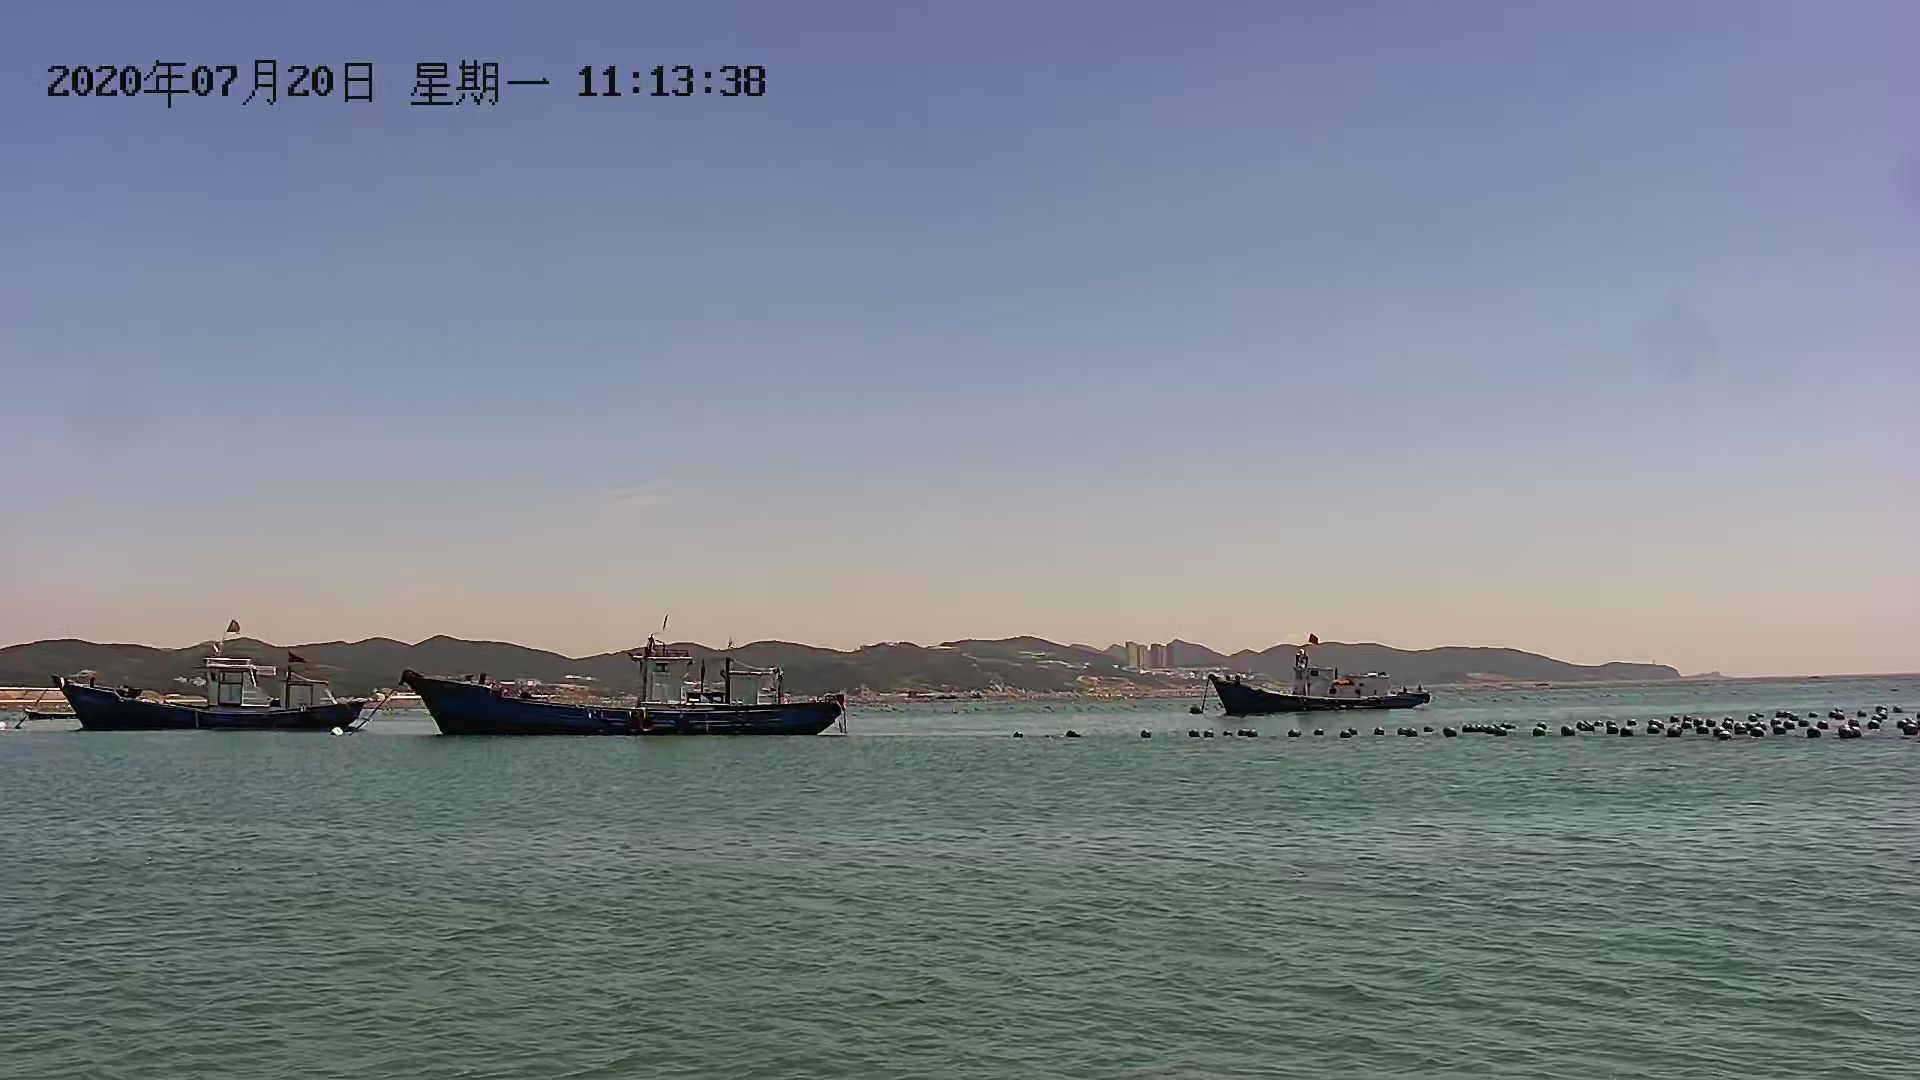boat: (406, 651, 858, 736), (70, 645, 367, 735), (1203, 654, 1437, 716)
